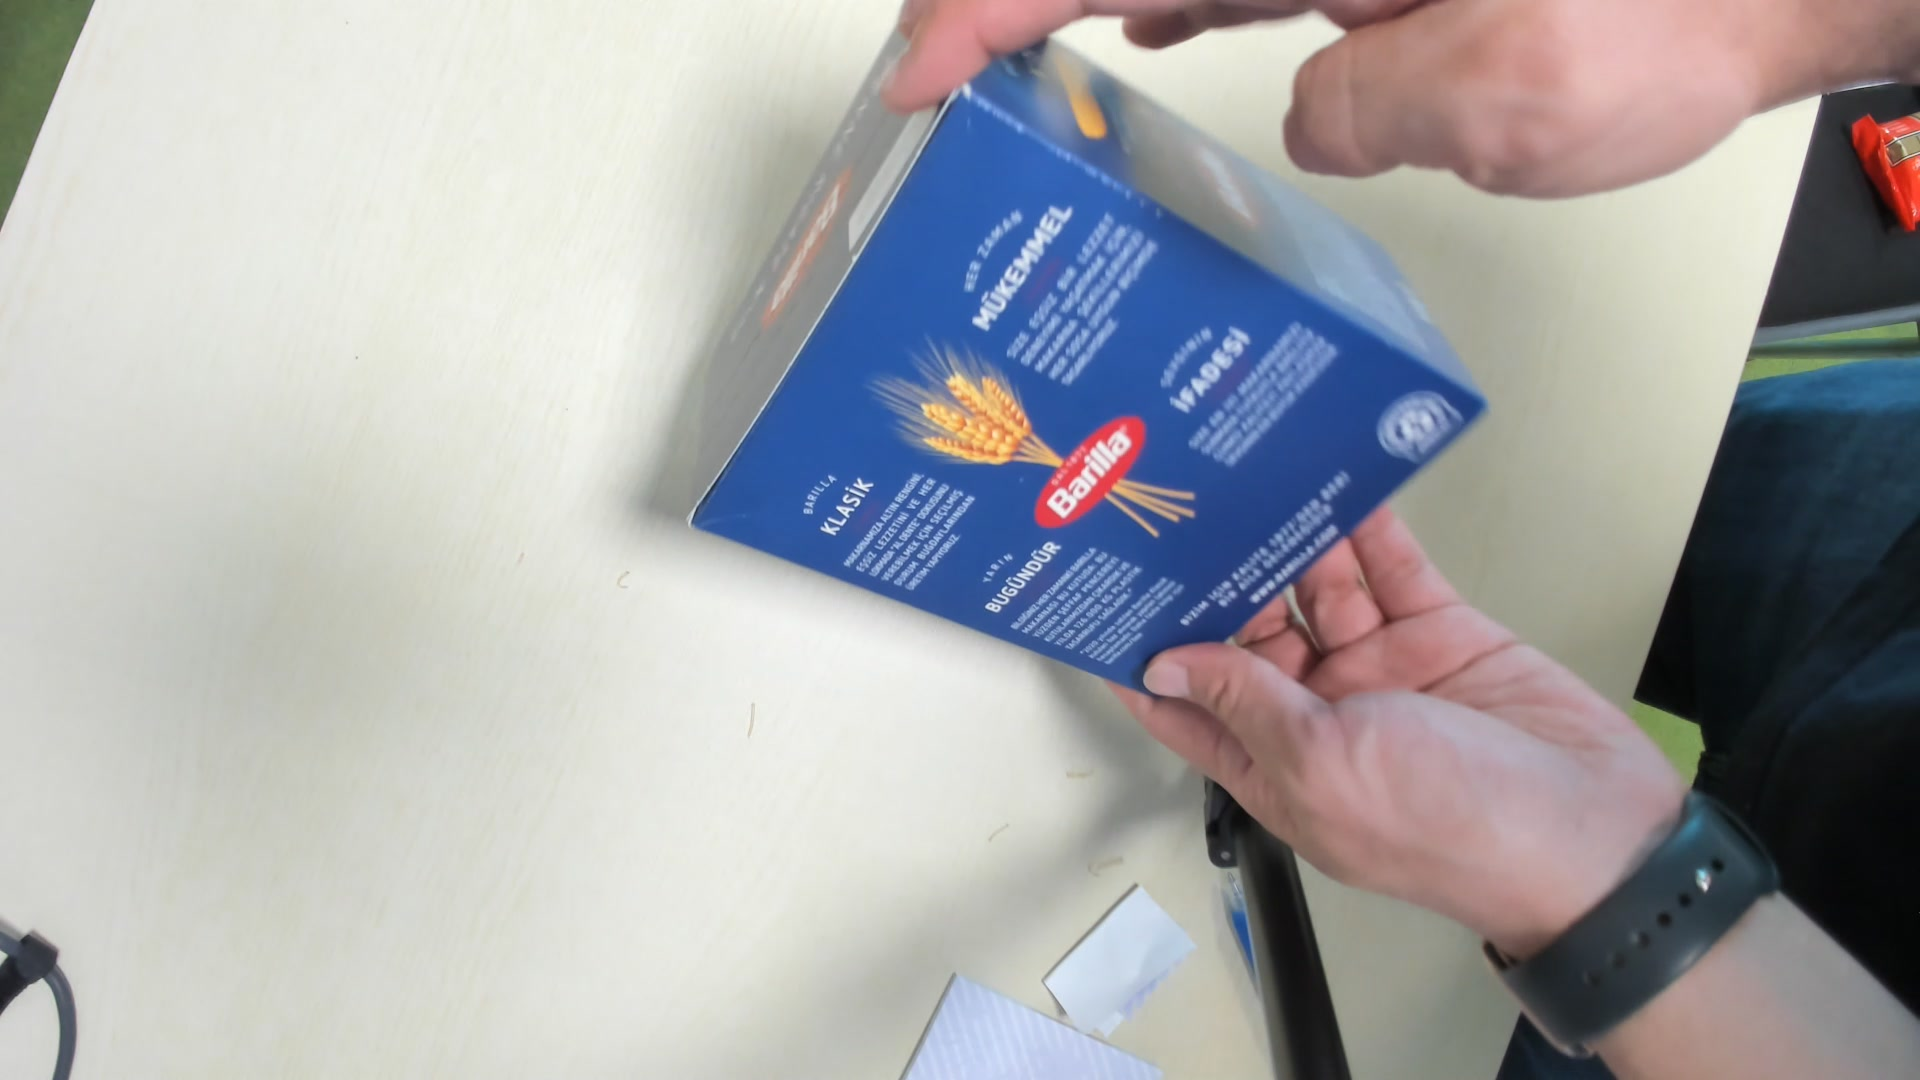Pasta_500-599g_NonHalal_NonHealthy: (683, 3, 1484, 708)
